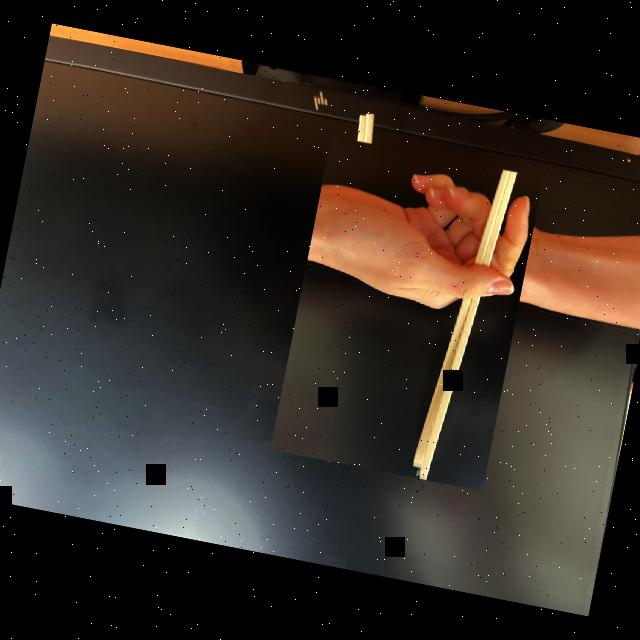stick: (271, 137, 543, 490)
